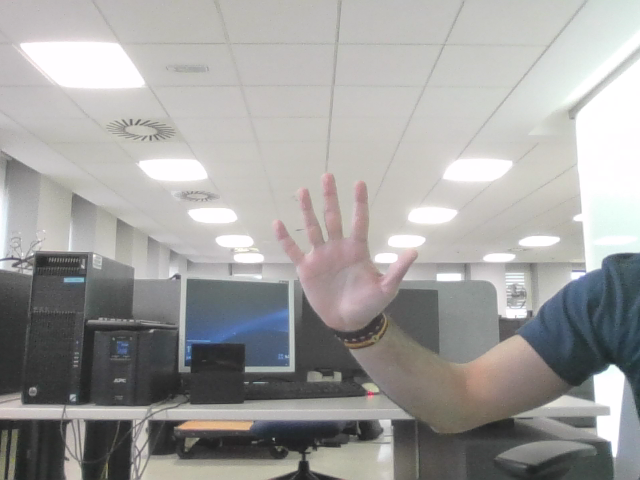Mano Abierta: (284, 185, 405, 305)
